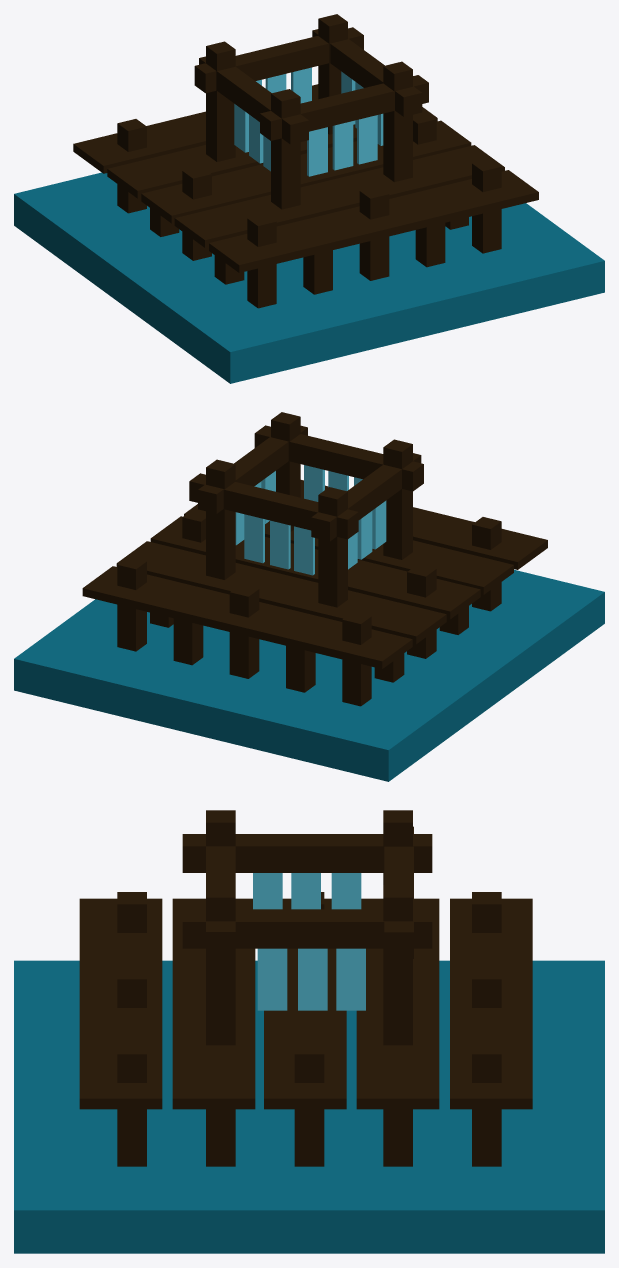
File: Fishery4.obj
The picture shows the model from 3 angles, top to bottom: view 1: azimuth 30°, elevation 25°; view 2: azimuth 150°, elevation 25°; view 3: azimuth 270°, elevation 25°; orthographic projection. The views are drawn at different scales.
Parts seen in each view (by area): view 1: Tilebase114, Box749, Box750, Box751, Box752, Box753, Box758, Box759, Box755, Box756, Box757, Box760 (+17 smaller); view 2: Tilebase114, Box753, Box752, Box751, Box750, Box749, Box759, Box758, Box754, Box757, Box756, Box760 (+18 smaller); view 3: Tilebase114, Box749, Box753, Box750, Box752, Box751, Box761, Box760, Box754, Box755, Box734, Box737 (+17 smaller).
Part boxes in pixels (x1,y1,x2,y2): Tilebase114: [14, 172, 604, 383]; Box749: [209, 170, 538, 272]; Box750: [174, 145, 504, 247]; Box751: [141, 120, 471, 223]; Box752: [107, 107, 437, 198]; Box753: [73, 84, 318, 173]; Box758: [260, 75, 428, 140]; Box759: [194, 27, 363, 93]; Box755: [383, 61, 412, 181]; Box756: [271, 89, 300, 209]; Box757: [206, 41, 235, 161]; Box760: [199, 56, 308, 144]; Tilebase114: [14, 569, 604, 781]; Box753: [82, 566, 412, 668]; Box752: [116, 541, 446, 644]; Box751: [150, 516, 480, 619]; Box750: [184, 504, 513, 594]; Box749: [300, 480, 547, 569]; Box759: [189, 473, 358, 539]; Box758: [254, 425, 423, 491]; Box754: [206, 459, 235, 579]; Box757: [318, 487, 347, 607]; Box756: [383, 439, 412, 559]; Box760: [311, 453, 421, 541]; Tilebase114: [14, 960, 604, 1253]; Box749: [79, 898, 162, 1109]; Box753: [450, 898, 532, 1109]; Box750: [172, 898, 255, 1109]; Box752: [356, 898, 439, 1109]; Box751: [264, 898, 346, 1109]; Box761: [182, 909, 432, 948]; Box760: [182, 834, 432, 872]; Box754: [383, 885, 412, 1045]; Box755: [206, 885, 235, 1045]; Box734: [294, 1041, 324, 1166]; Box737: [472, 1041, 501, 1166].
Size of the model in its own units: 10 by 5.14 by 10.
